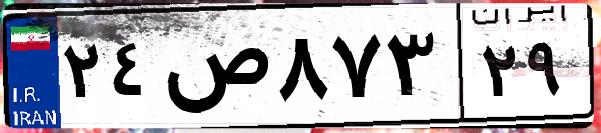2: (57, 26, 110, 100), (475, 38, 525, 113)
3: (385, 28, 445, 110)
4: (110, 28, 158, 98)
7: (330, 28, 385, 110)
8: (270, 28, 330, 110)
9: (525, 38, 570, 115)
ص: (158, 20, 270, 120)
